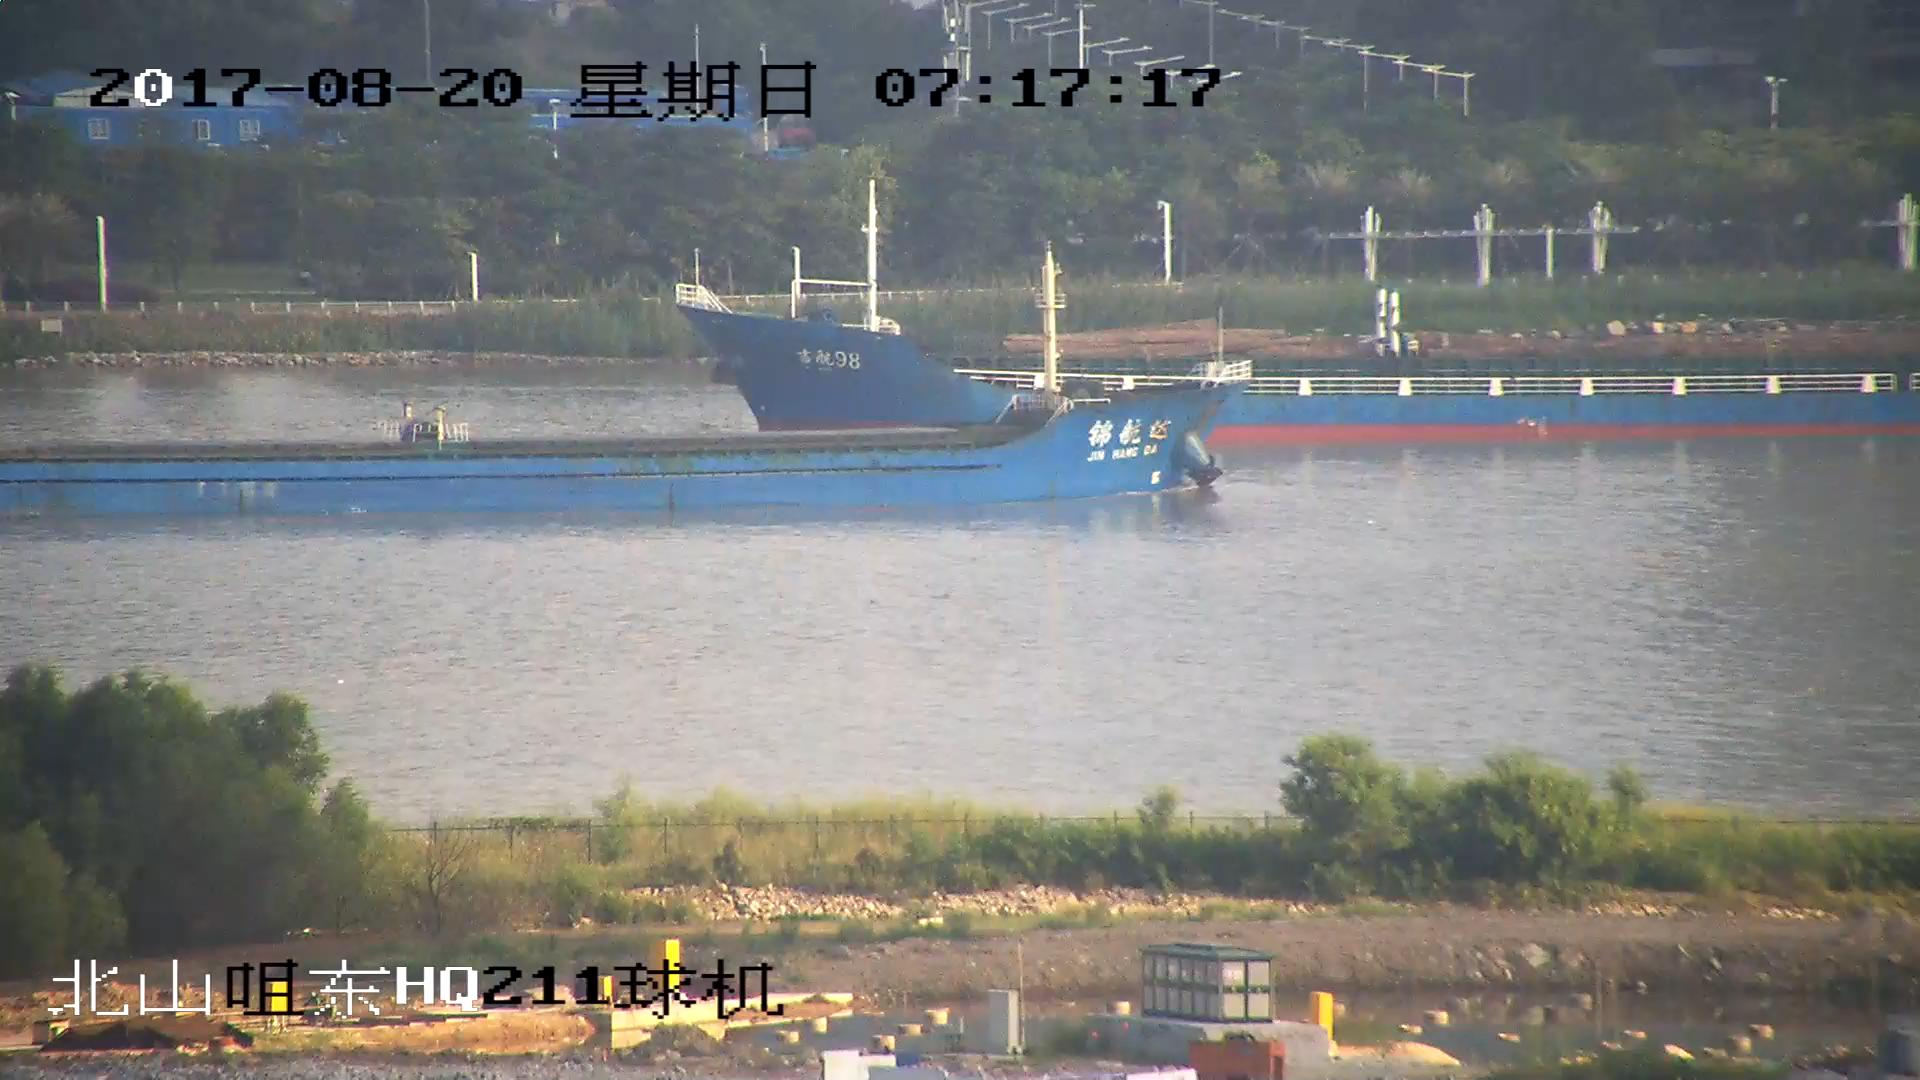general cargo ship: (683, 178, 1920, 443), (1, 266, 1227, 516)
